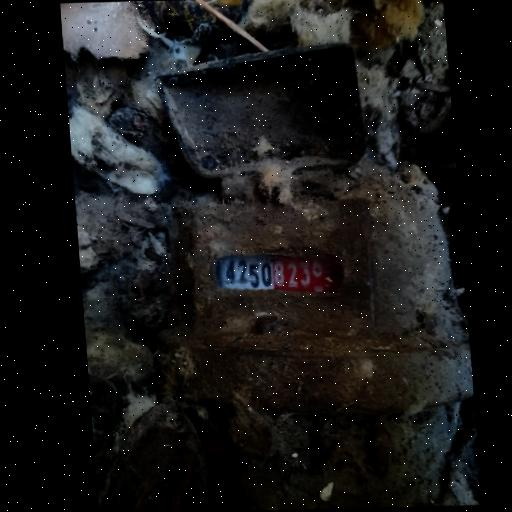0: (258, 258, 275, 289)
2: (284, 257, 301, 290), (236, 257, 250, 287)
3: (298, 257, 314, 291)
4: (220, 257, 239, 287)
5: (246, 257, 262, 289)
6: (310, 257, 326, 292)
8: (271, 257, 288, 291)
border_water_meter_number: (209, 250, 347, 297)
